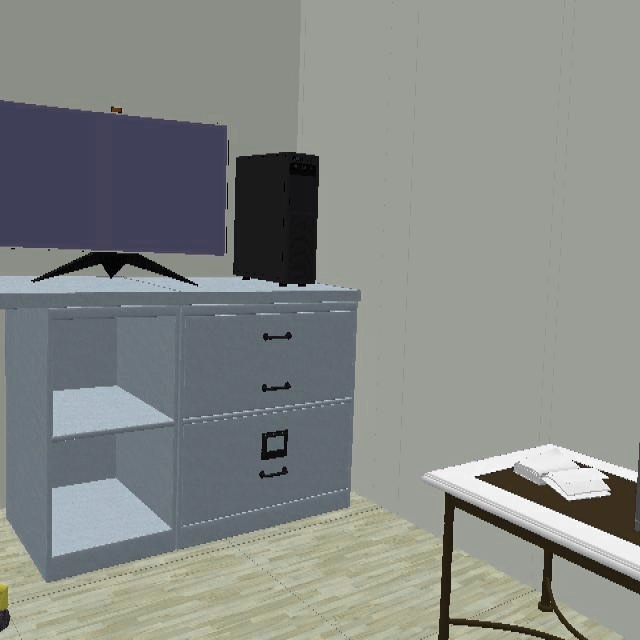book: (502, 463, 611, 501)
cabinet: (0, 277, 359, 583)
monitor: (0, 101, 230, 257)
table: (422, 452, 640, 637)
